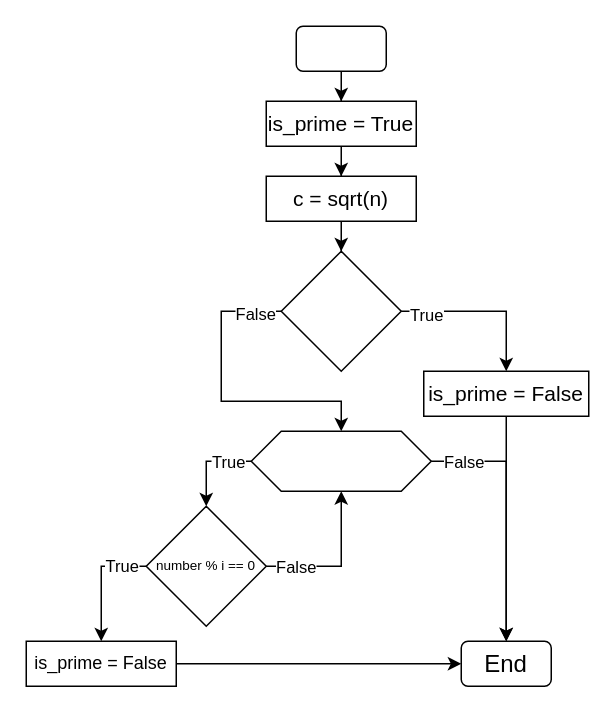
Image size: 615x713. Some labels were removed from this diagram. Each missing label, with the centre of its shape:
i = 2; i <= c; i++: (x=340, y=460)
n <= 1: (x=340, y=310)
Start: (x=340, y=48)
